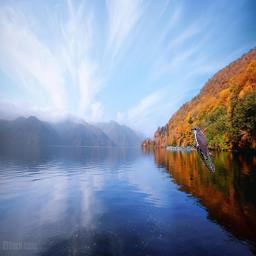Cuckoo: (191, 126, 215, 172)
